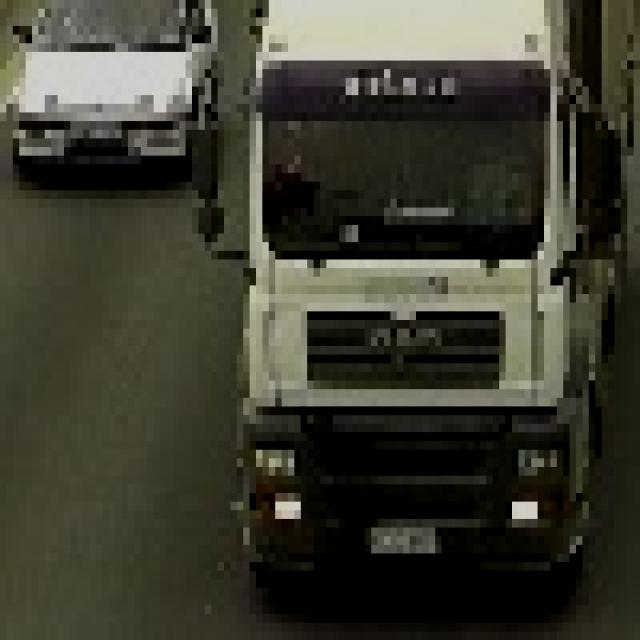SED: (5, 3, 202, 186)
TRUCK: (239, 1, 632, 595)
